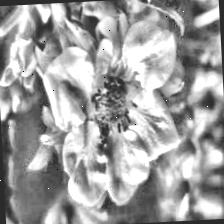Blossom Blight: (80, 64, 147, 148)
